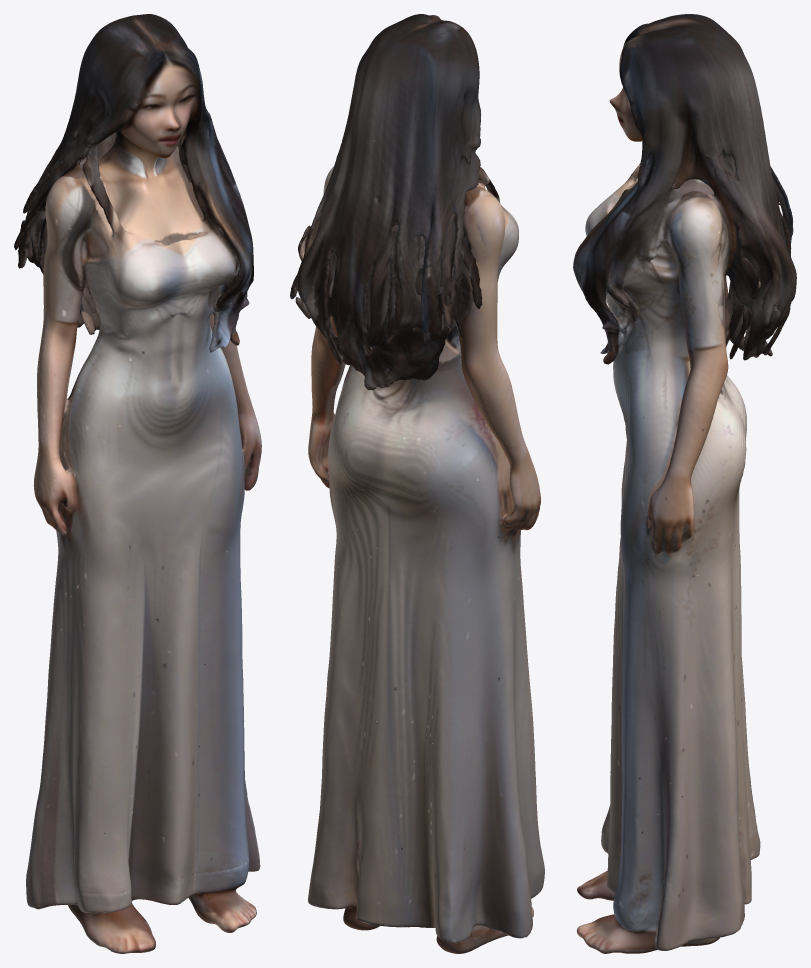
The model's file is female.glb.
The picture shows the model from 3 angles, left to right: view 1: azimuth 30°, elevation 25°; view 2: azimuth 150°, elevation 25°; view 3: azimuth 270°, elevation 25°; orthographic projection. The views are drawn at different scales.
Size of the model in its own units: 0.5189 by 2 by 0.4515.
Materials: 1 (1 with a texture image).
